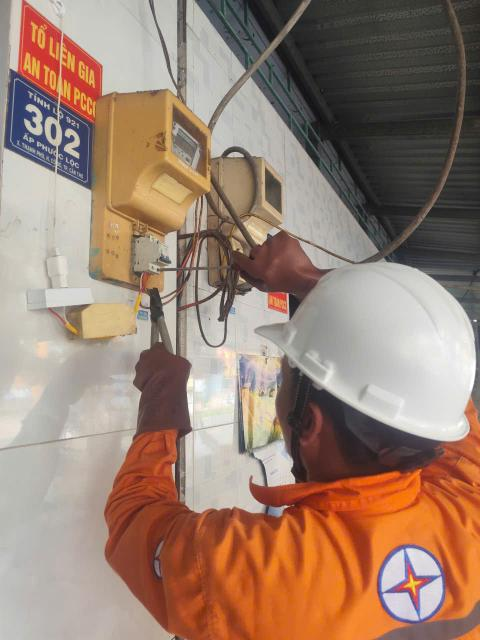gloves: (123, 335, 199, 443), (226, 223, 324, 299)
helmet: (264, 225, 478, 448)
